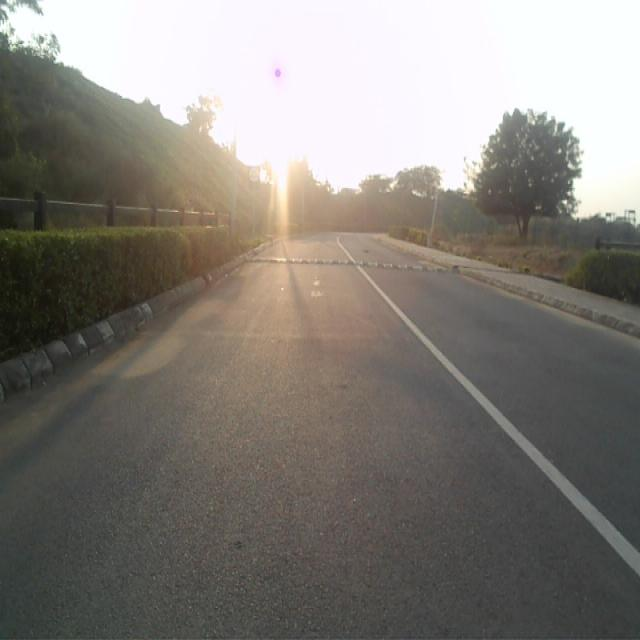lane: (0, 235, 640, 640)
